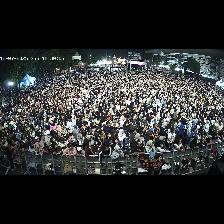person: (99, 144, 112, 169), (85, 141, 98, 157), (63, 143, 76, 157), (132, 141, 144, 155), (131, 134, 143, 148), (167, 129, 175, 150), (112, 146, 124, 159), (155, 140, 168, 152), (122, 121, 132, 136), (189, 127, 197, 145), (159, 123, 167, 141), (94, 135, 104, 149), (151, 123, 159, 140), (190, 136, 201, 148), (52, 143, 62, 156), (121, 143, 130, 157), (118, 129, 125, 147), (179, 120, 187, 135), (145, 132, 155, 144), (130, 120, 139, 133), (175, 139, 184, 152), (146, 140, 155, 153), (112, 138, 121, 150), (104, 133, 113, 145), (11, 140, 19, 153), (123, 138, 131, 151), (56, 131, 66, 141), (29, 141, 36, 155), (45, 130, 51, 146), (77, 133, 84, 146), (73, 125, 80, 138), (19, 141, 28, 151), (58, 138, 68, 147), (67, 138, 77, 147), (182, 137, 190, 148), (130, 130, 137, 142), (36, 138, 44, 148), (103, 122, 111, 132), (50, 121, 57, 132), (60, 125, 67, 135), (87, 135, 94, 145), (187, 123, 192, 137), (99, 130, 105, 141), (204, 120, 209, 133), (206, 135, 212, 145), (50, 138, 58, 145), (120, 116, 125, 127), (212, 136, 218, 144), (216, 135, 222, 142), (77, 147, 82, 155)
